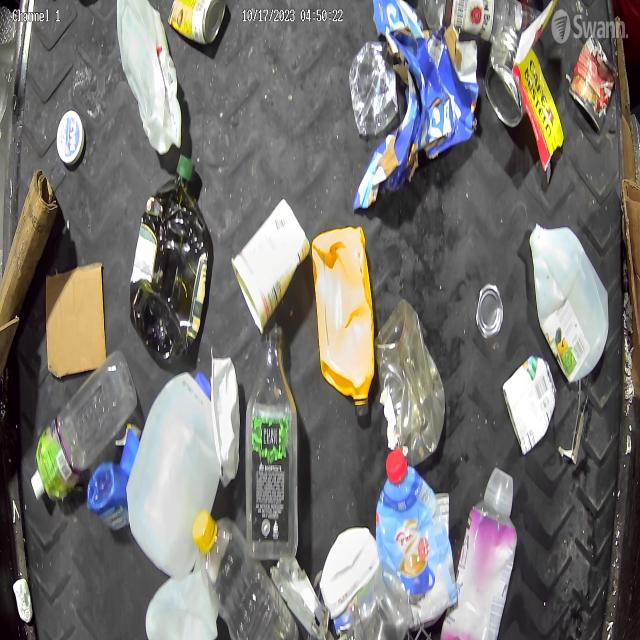can: (502, 356, 556, 456), (567, 31, 617, 130), (487, 46, 526, 128), (168, 0, 225, 47), (476, 282, 503, 342)
milk_jug: (126, 369, 220, 576), (531, 215, 612, 382), (113, 0, 183, 158), (144, 571, 218, 640)
non_white_jug: (311, 225, 375, 418)
plastic_bottle: (31, 350, 137, 505), (193, 511, 299, 640), (245, 322, 299, 562)
